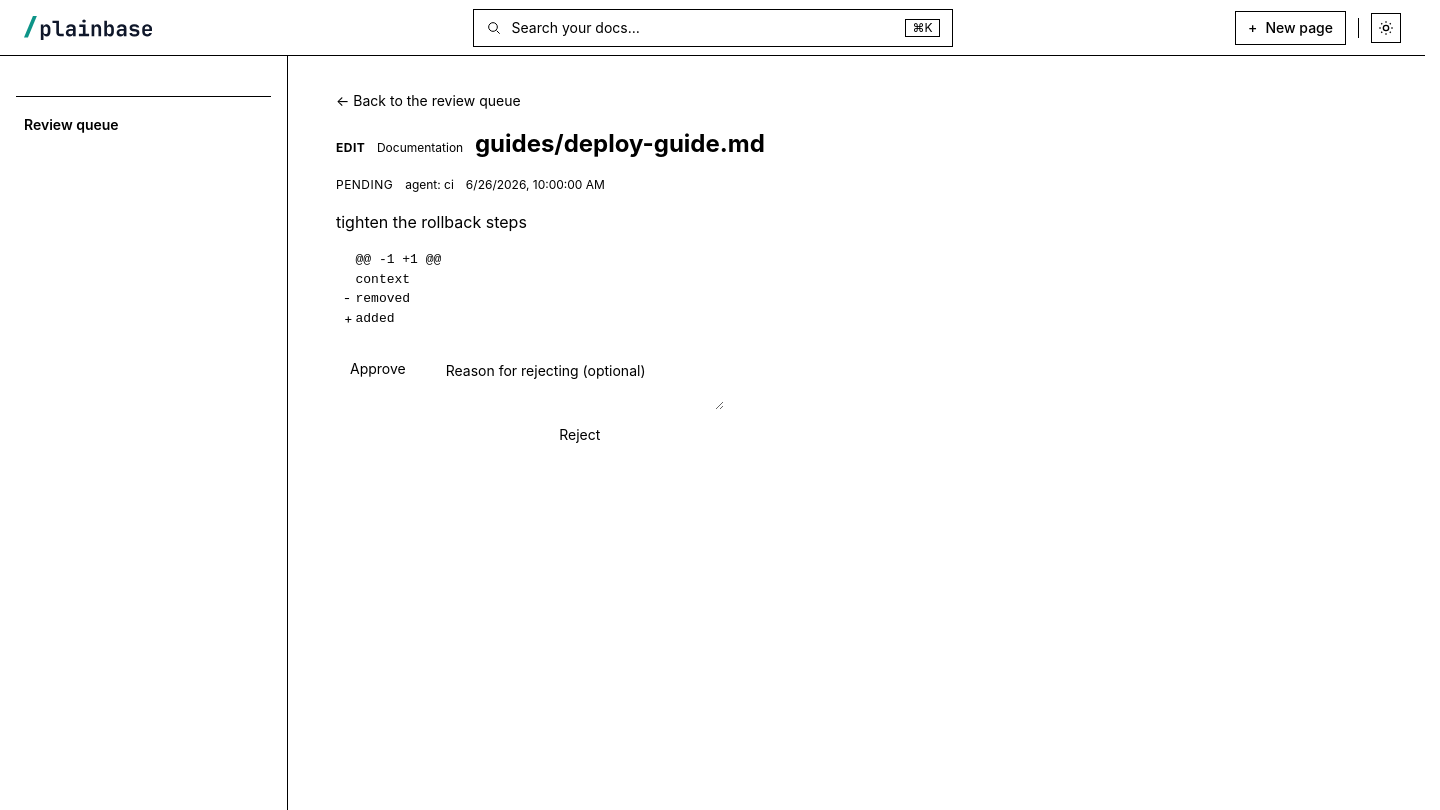
Test: review detail › a 403 on approve flips the no-access state
Click the button "Approve" at (378, 368), box [336,352,420,385]
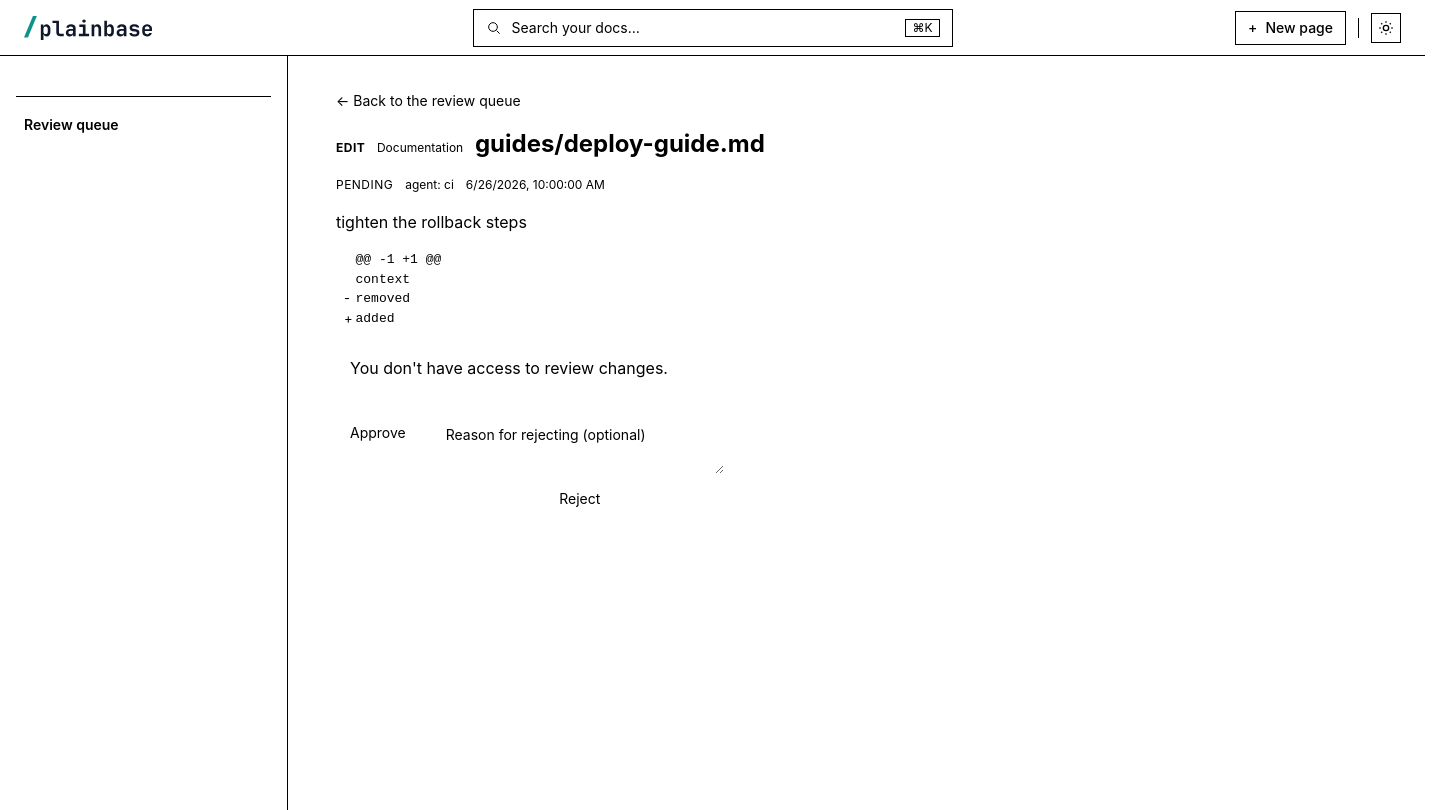
expect the text "You don't have access to review changes." is shown: met, box [350,358,668,378]
